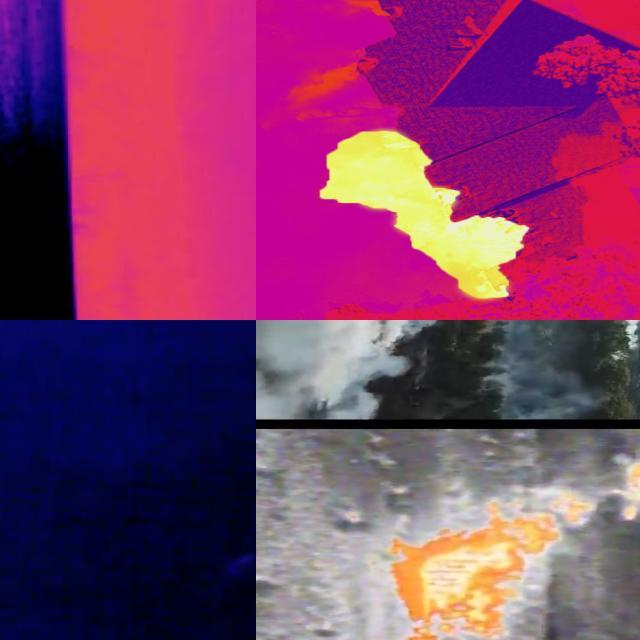fire: (270, 118, 562, 312), (388, 495, 597, 639), (610, 459, 640, 522)
